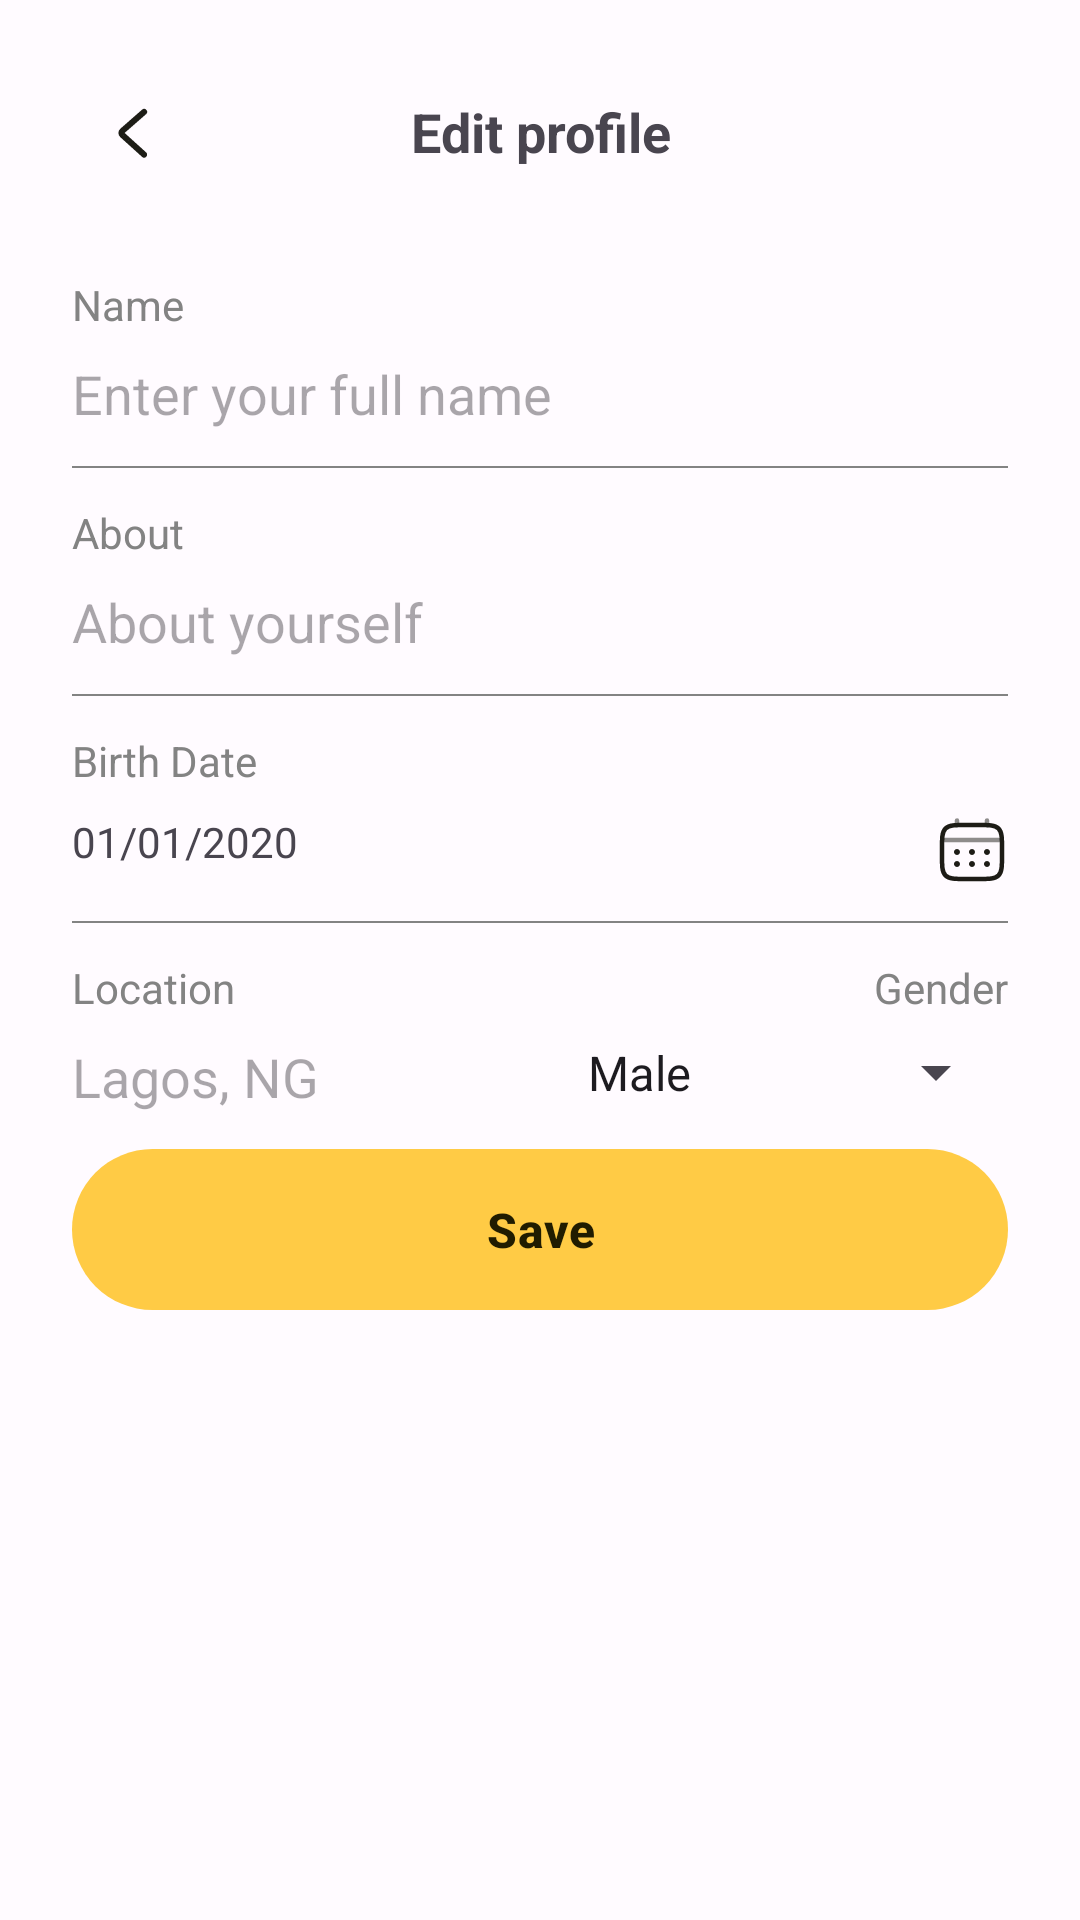

Icons on this 1080×1920 Android screen, each with its box as bbox=[x1, y1, x2, y2]:
pop back icon: bbox=[118, 108, 148, 158]
